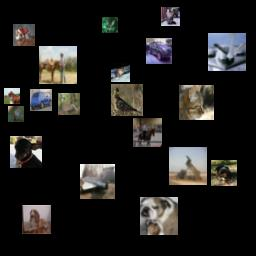airplane: (208, 33, 246, 71), (80, 164, 115, 199)
automobile: (146, 38, 172, 64), (30, 89, 52, 111)
bird: (111, 84, 143, 116), (58, 93, 80, 115), (8, 106, 24, 122)
cat: (179, 85, 214, 120), (13, 24, 35, 46), (161, 7, 180, 26)
deer: (102, 17, 118, 33)
dog: (140, 197, 178, 235), (10, 136, 42, 168), (22, 205, 51, 234), (211, 160, 237, 186)
frog: (111, 63, 130, 82)
truck: (169, 147, 207, 185)
